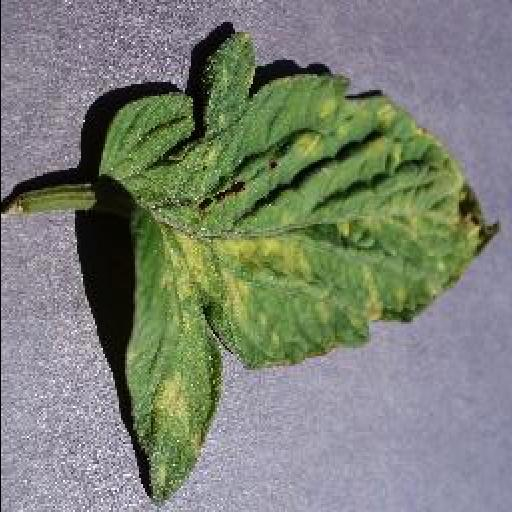disease_tomato: (98, 35, 502, 507)
